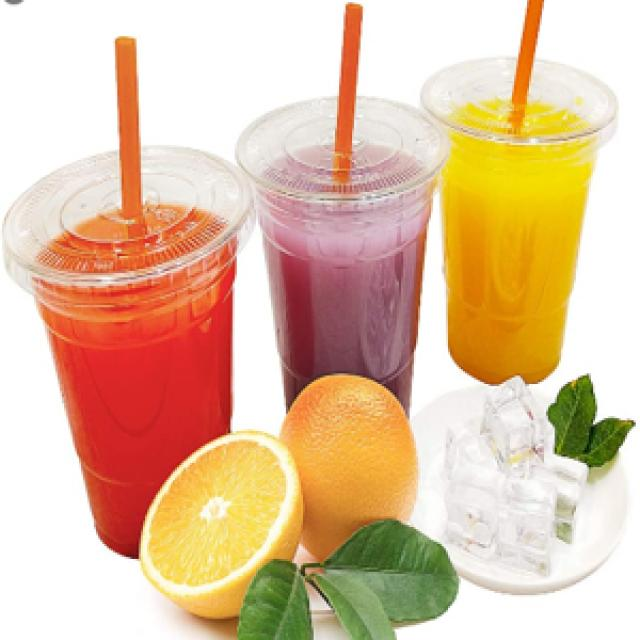plastic cup: (2, 141, 256, 561), (233, 88, 450, 433), (416, 52, 623, 390)
